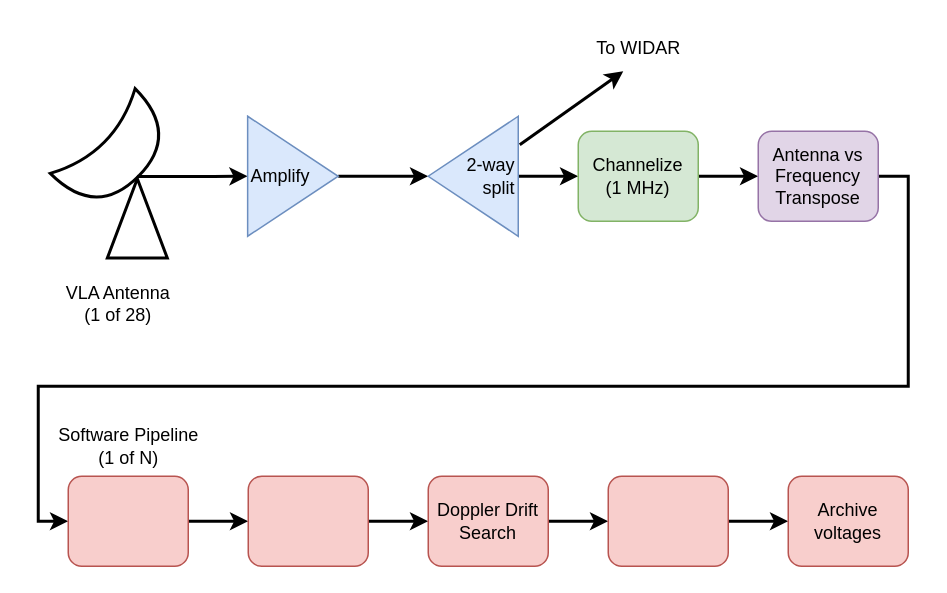
This 947x593 diagram has some shape labels left out. The shapes that lost their labels are listed below. From the top down, each one's box as (x1, y1, x2, y2) in pixels, then its label:
(67, 475, 188, 566): Upchannelize (~ 1Hz)
(247, 475, 368, 566): Beamform (multiple beams)
(607, 475, 728, 566): SNR threshold
